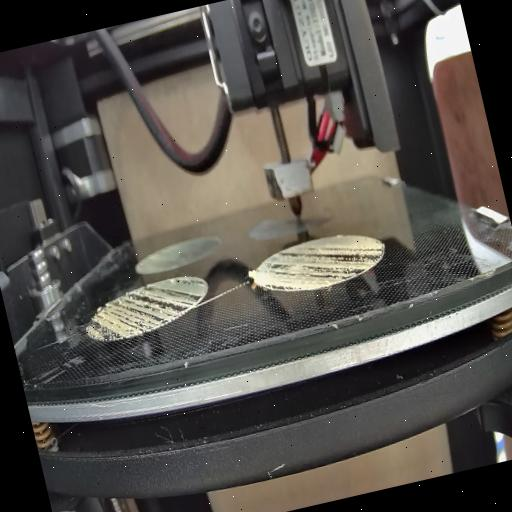under_extrusion: (259, 225, 390, 297), (82, 272, 212, 344)
